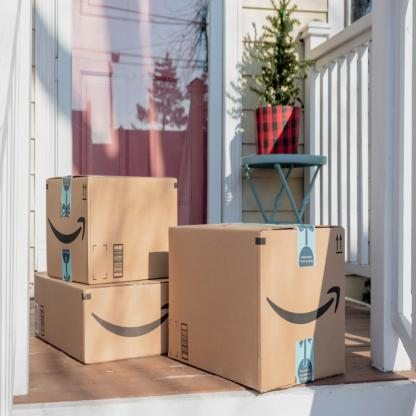package: (167, 221, 348, 392), (44, 172, 178, 279), (33, 271, 173, 364)
